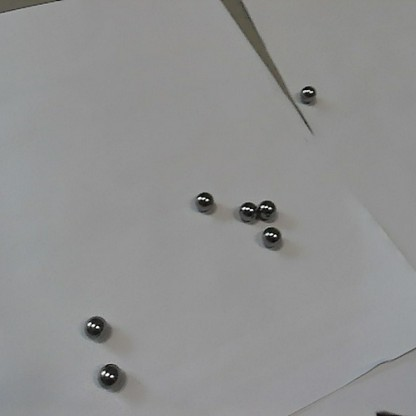ironball: (95, 361, 125, 392), (85, 314, 110, 343), (296, 81, 319, 105), (259, 224, 282, 248), (192, 192, 216, 213), (256, 196, 277, 219), (236, 201, 256, 224)
